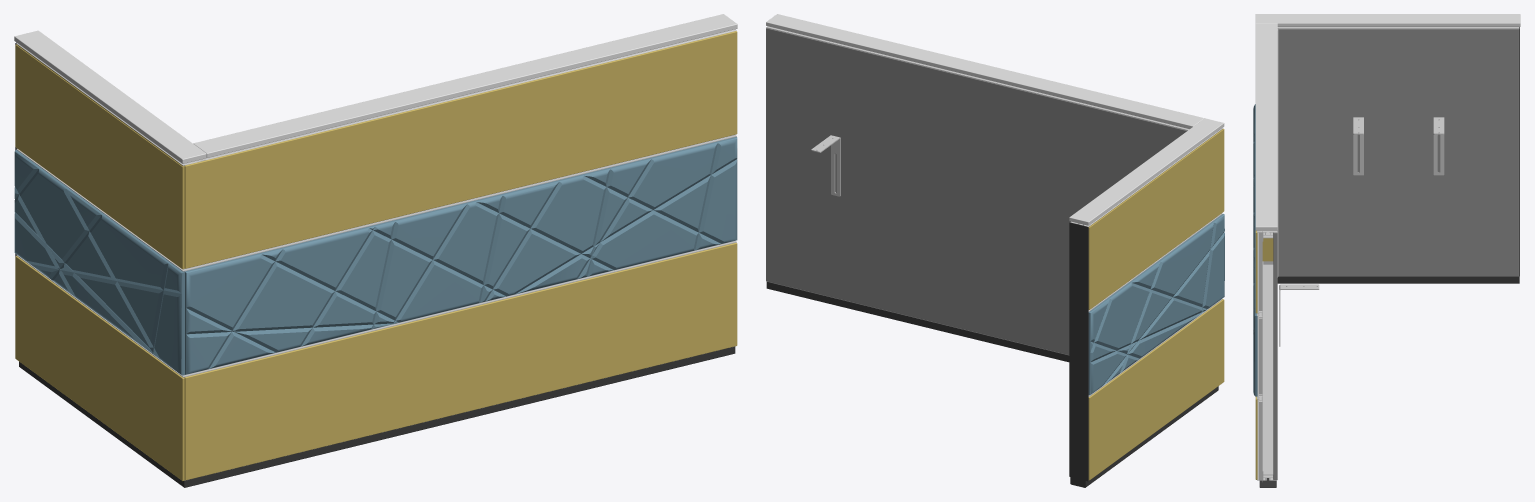
The model's file is Counter_90x180_FINAL 1.fbx.
The picture shows the model from 3 angles, left to right: view 1: azimuth 30°, elevation 25°; view 2: azimuth 150°, elevation 25°; view 3: azimuth 270°, elevation 25°; orthographic projection. The views are drawn at different scales.
Visible parts, largest first — view 1: FRONTY, cos:polySurface1, BLAT, METAL_MESH, plastiki_Mesh; view 2: BACK, FRONTY, cos:polySurface1, BLAT, plastiki_Mesh, METAL_MESH; view 3: BACK, BLAT, METAL_MESH, plastiki_Mesh, cos:polySurface1, FRONTY.
Boxes of the visible parts, left/top/right/bottom form: FRONTY: left=15, top=31, right=737, bottom=480; cos:polySurface1: left=14, top=136, right=737, bottom=375; BLAT: left=14, top=14, right=737, bottom=163; METAL_MESH: left=16, top=29, right=736, bottom=480; plastiki_Mesh: left=15, top=42, right=735, bottom=487; BACK: left=766, top=28, right=1187, bottom=354; FRONTY: left=1088, top=128, right=1224, bottom=480; cos:polySurface1: left=1088, top=214, right=1224, bottom=395; BLAT: left=766, top=14, right=1224, bottom=225; plastiki_Mesh: left=766, top=222, right=1218, bottom=487; METAL_MESH: left=766, top=26, right=1222, bottom=396; BACK: left=1273, top=28, right=1519, bottom=479; BLAT: left=1255, top=14, right=1520, bottom=230; METAL_MESH: left=1257, top=27, right=1519, bottom=481; plastiki_Mesh: left=1259, top=27, right=1519, bottom=487; cos:polySurface1: left=1253, top=104, right=1257, bottom=396; FRONTY: left=1255, top=230, right=1273, bottom=479.
Bounding box in the file's own units: 189 × 108 × 99.9.
